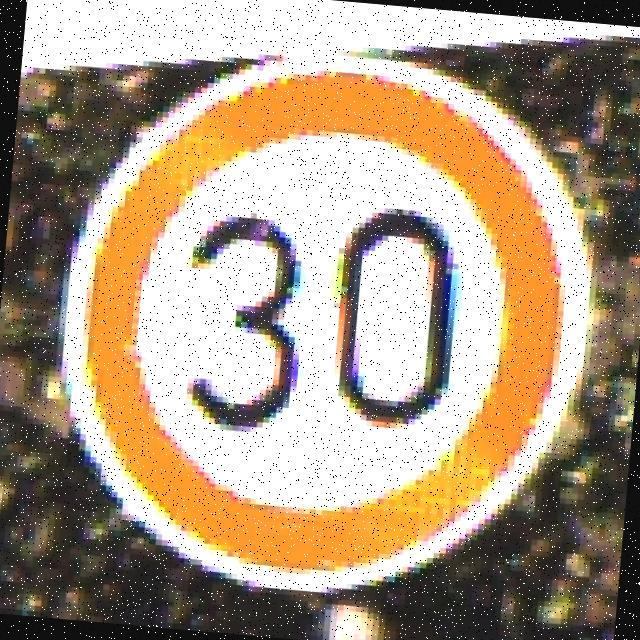Ograniczenie predkosci do 30: (45, 49, 605, 614)
